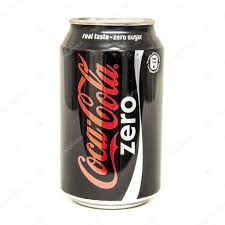can: (55, 14, 164, 212)
